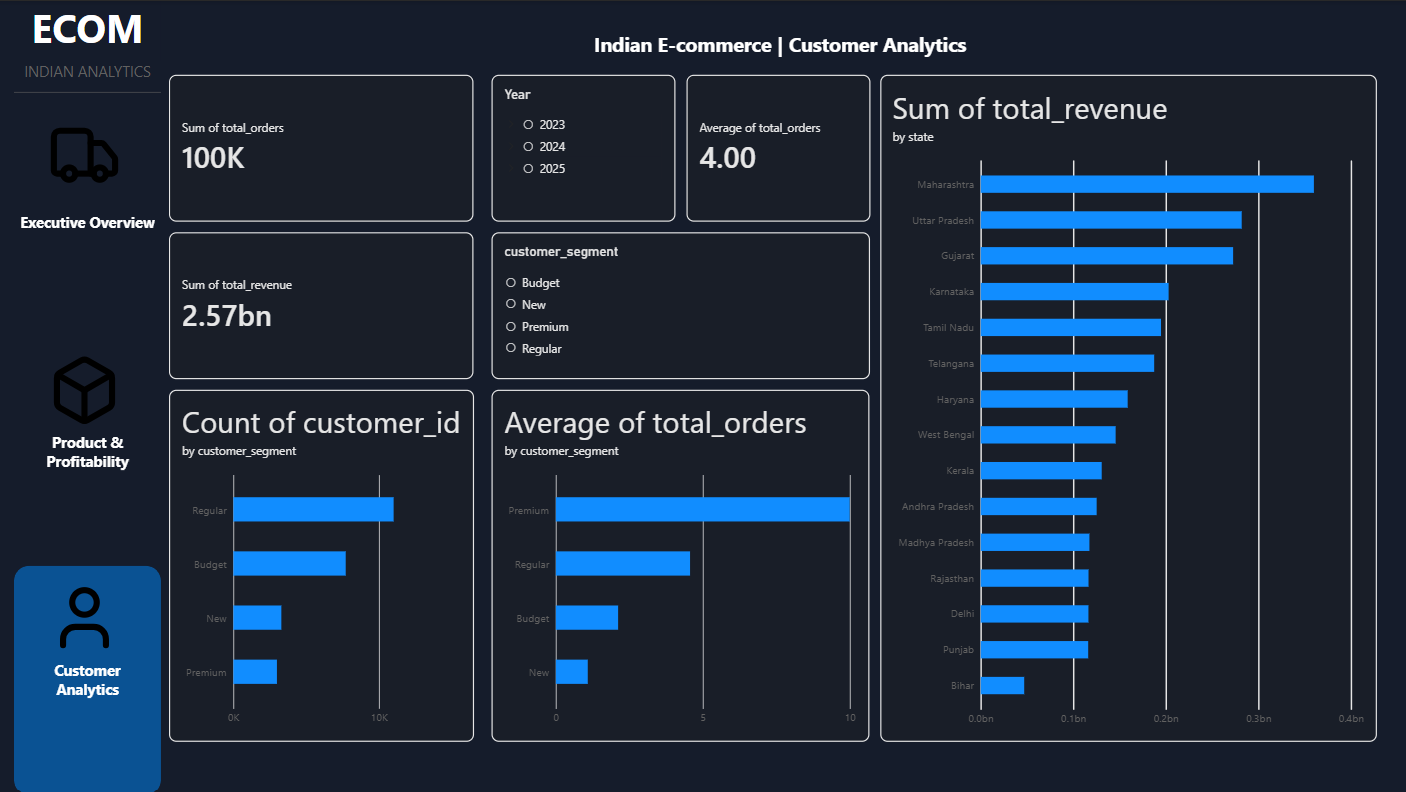

Layout of this report page (visuals, bound fields, positions):
{"tool":"powerbi","page":{"name":"Customer Analytics","canvas":[1920,1080],"ordinal":2},"visuals":[{"type":"clusteredBarChart","fields":{"Category":["indian_ecommerce vw_customer_performance.customer_segment"],"Y":["Count(indian_ecommerce vw_customer_performance.customer_id)"]},"box":[231,529.3,415.4,479],"z":0},{"type":"clusteredBarChart","fields":{"Category":["indian_ecommerce vw_customer_performance.state"],"Y":["Sum(indian_ecommerce vw_customer_performance.total_revenue)"]},"box":[1200,100,676,908],"z":1000},{"type":"listSlicer","fields":{"Values":["indian_ecommerce vw_customer_performance.customer_segment"]},"box":[670,315,515,200],"z":2000},{"type":"clusteredBarChart","fields":{"Category":["indian_ecommerce vw_customer_performance.customer_segment"],"Y":["Avg(indian_ecommerce vw_customer_performance.total_orders)"]},"box":[670,529.3,514.2,479],"z":3000},{"type":"cardVisual","fields":{"Data":["Avg(indian_ecommerce vw_customer_performance.total_orders)"]},"box":[935,100,250,200],"z":4000},{"type":"listSlicer","fields":{"Values":["indian_ecommerce vw_customer_performance.last_purchase_date.Variation.Date Hierarchy.Year","indian_ecommerce vw_customer_performance.last_purchase_date.Variation.Date Hierarchy.Quarter","indian_ecommerce vw_customer_performance.last_purchase_date.Variation.Date Hierarchy.Month","indian_ecommerce vw_customer_performance.last_purchase_date.Variation.Date Hierarchy.Day"]},"box":[670,100,250,200],"z":5000},{"type":"pageNavigator","title":"ECOM","box":[20,0,200,1080.6],"z":7000},{"type":"cardVisual","fields":{"Data":["Sum(indian_ecommerce vw_customer_performance.total_orders)"]},"box":[231,100,414.5,200],"z":8000},{"type":"cardVisual","fields":{"Data":["Sum(indian_ecommerce vw_customer_performance.total_revenue)"]},"box":[231,315.5,414.5,200],"z":9000},{"type":"image","box":[66,160,100,100],"z":10000},{"type":"image","box":[66,480,100,100],"z":11000},{"type":"image","box":[66,790,100,100],"z":12000},{"type":"textbox","box":[810.7,40,520,48.6],"z":12001}]}

Visuals, with their boxes in screenshot pixels (x1, y1, x2, y2), scaled from the page's 1920x1080 canvas onto the 1406x792 screenshot:
clusteredBarChart - indian_ecommerce vw_customer_performance.customer_segment x Count(indian_ecommerce vw_customer_performance.customer_id): (169, 388, 473, 739)
clusteredBarChart - indian_ecommerce vw_customer_performance.state x Sum(indian_ecommerce vw_customer_performance.total_revenue): (879, 73, 1374, 739)
listSlicer - indian_ecommerce vw_customer_performance.customer_segment: (491, 231, 868, 378)
clusteredBarChart - indian_ecommerce vw_customer_performance.customer_segment x Avg(indian_ecommerce vw_customer_performance.total_orders): (491, 388, 867, 739)
cardVisual - Avg(indian_ecommerce vw_customer_performance.total_orders): (685, 73, 868, 220)
listSlicer - indian_ecommerce vw_customer_performance.last_purchase_date.Variation.Date Hierarchy.Year x indian_ecommerce vw_customer_performance.last_purchase_date.Variation.Date Hierarchy.Quarter: (491, 73, 674, 220)
"ECOM" pageNavigator: (15, 0, 161, 791)
cardVisual - Sum(indian_ecommerce vw_customer_performance.total_orders): (169, 73, 473, 220)
cardVisual - Sum(indian_ecommerce vw_customer_performance.total_revenue): (169, 231, 473, 378)
image: (48, 117, 122, 191)
image: (48, 352, 122, 425)
image: (48, 579, 122, 653)
textbox: (594, 29, 974, 65)
